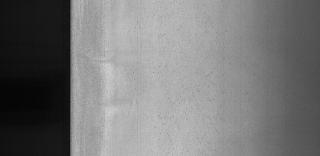silk spot: (144, 64, 236, 150)
